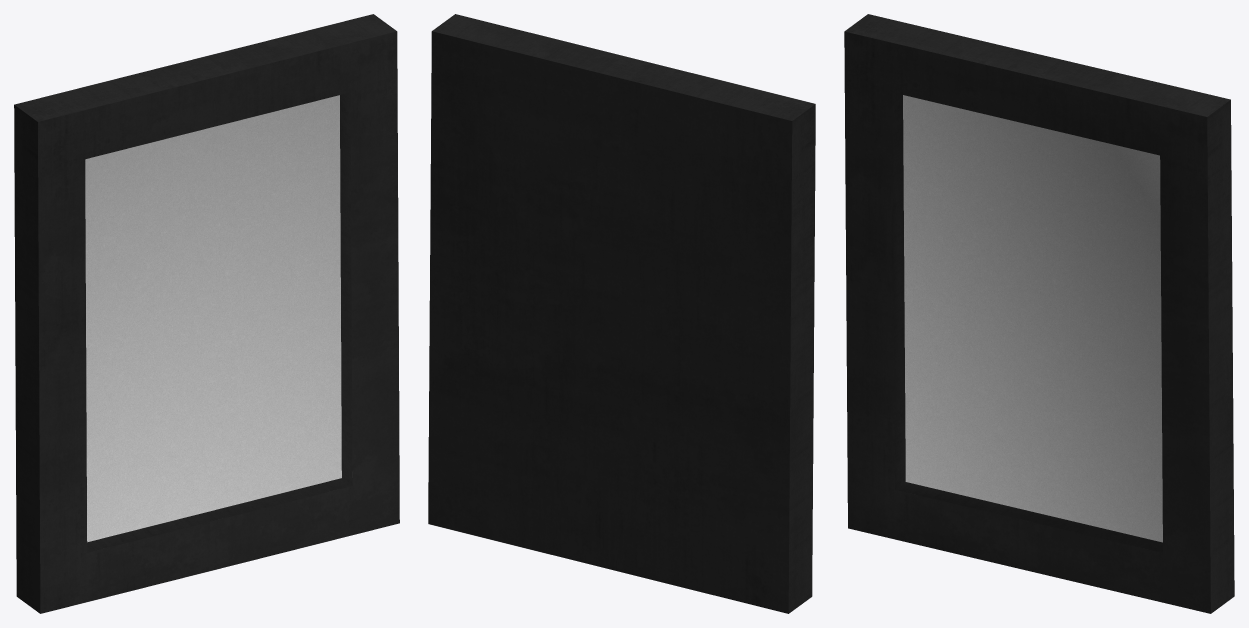
File: Gakubutimdl_Muji.fbx
3 renders of one model, left to right at view 1: azimuth 30°, elevation 25°; view 2: azimuth 150°, elevation 25°; view 3: azimuth 330°, elevation 25°, orthographic.
Parts seen in each view (by area): view 1: Gakubuti; view 2: Gakubuti; view 3: Gakubuti.
Part boxes in pixels (x1,y1,x2,y2): Gakubuti: (14,14,399,613); Gakubuti: (428,14,815,613); Gakubuti: (844,14,1234,613).
Size of the model in its own units: 62.12 by 81.04 by 7.31.
